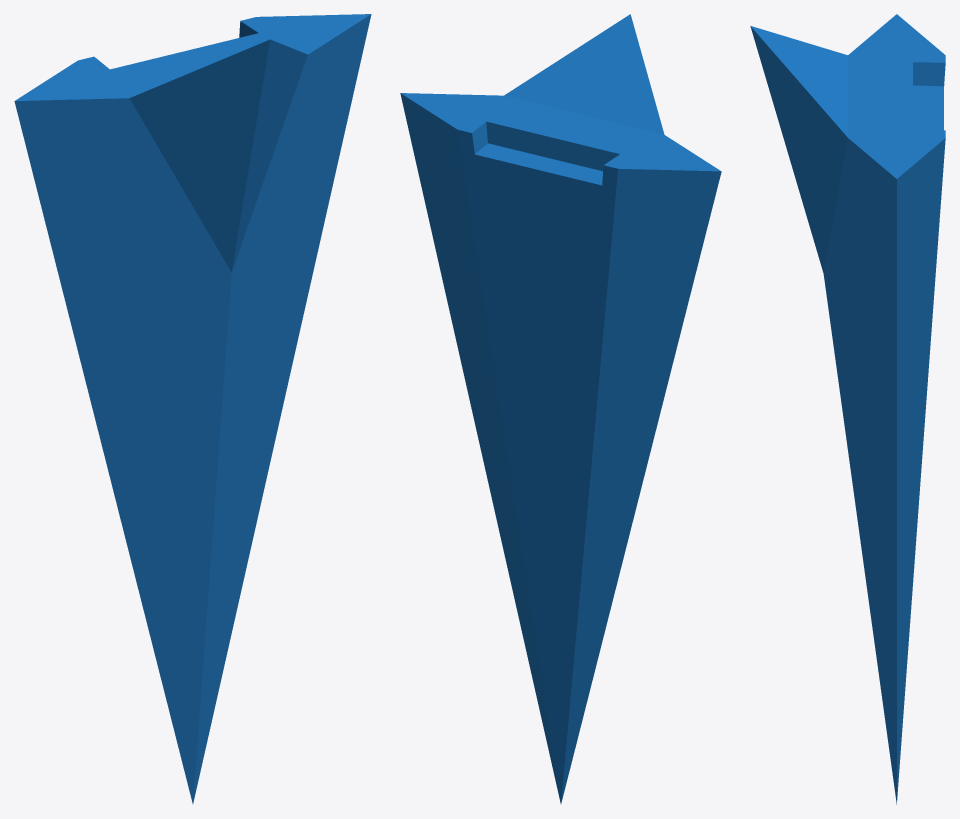
Rendered from simple_craft.fbx.
The picture shows the model from 3 angles, left to right: view 1: azimuth 30°, elevation 25°; view 2: azimuth 150°, elevation 25°; view 3: azimuth 270°, elevation 25°; orthographic projection. The views are drawn at different scales.
Parts seen in each view (by area): view 1: Cone; view 2: Cone; view 3: Cone.
Boxes of the visible parts, x1,y1,x2,y2 form: Cone: (14,14,371,803); Cone: (400,14,721,803); Cone: (750,14,945,804).
Bounding box in the file's own units: 2 × 4.4 × 1.
